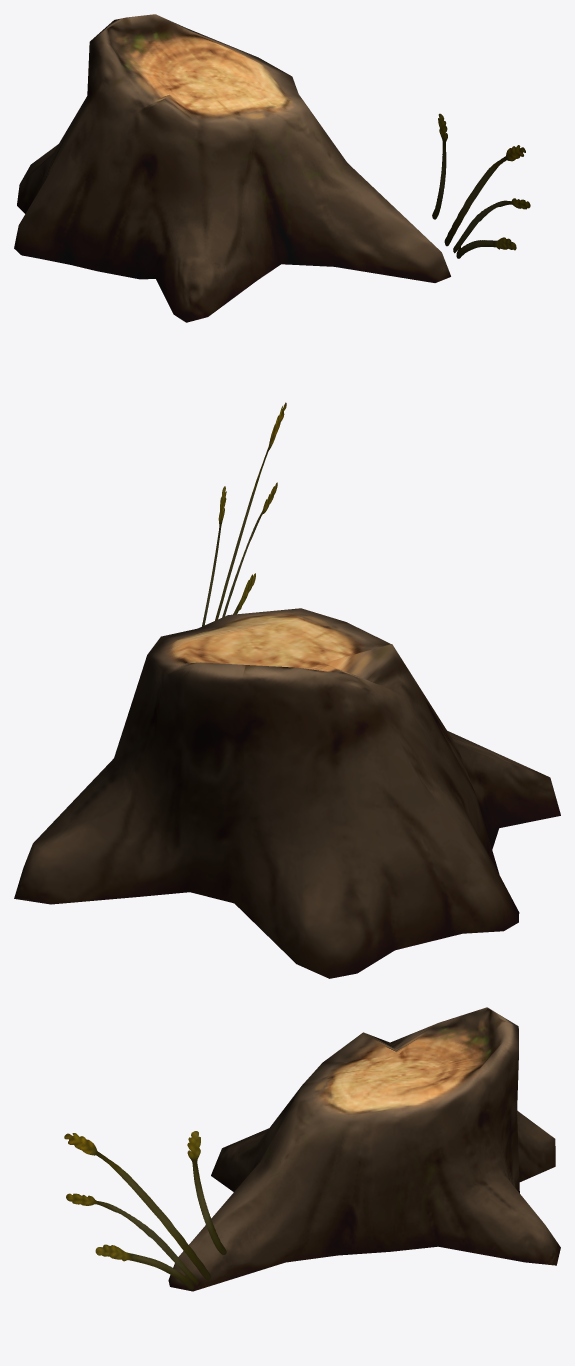
File: Stump_01.fbx
3 views of the same model, one above another, from view 1: azimuth 30°, elevation 25°; view 2: azimuth 150°, elevation 25°; view 3: azimuth 270°, elevation 25° (orthographic). The views are drawn at different scales.
Visible parts, largest first — view 1: Treestumpweed; view 2: Treestumpweed; view 3: Treestumpweed.
Boxes of the visible parts, <box> form: Treestumpweed: <box>14,14,530,322</box>; Treestumpweed: <box>14,402,560,978</box>; Treestumpweed: <box>64,1007,560,1291</box>.
Size of the model in its own units: 228 by 177 by 307.
